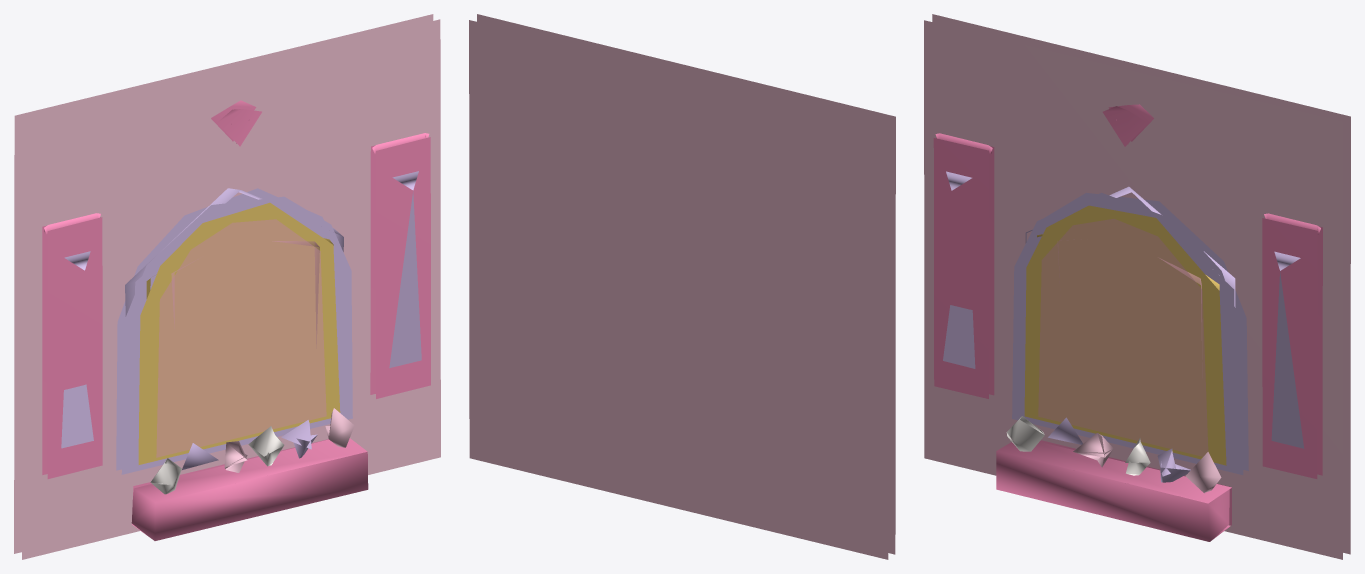
The model's file is lod_facade_win.glb.
The picture shows the model from 3 angles, left to right: view 1: azimuth 30°, elevation 25°; view 2: azimuth 150°, elevation 25°; view 3: azimuth 330°, elevation 25°; orthographic projection.
Visible parts, largest first — view 1: facade_win; view 2: facade_win; view 3: facade_win.
Part boxes in pixels (<box>): facade_win: <box>14,14,440,559</box>; facade_win: <box>469,14,895,559</box>; facade_win: <box>924,14,1350,559</box>.
Size of the model in its own units: 3.45 by 3.45 by 0.5522.
